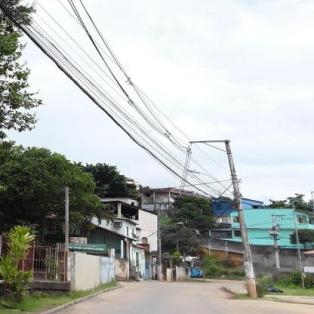Poste: (219, 137, 262, 298)
